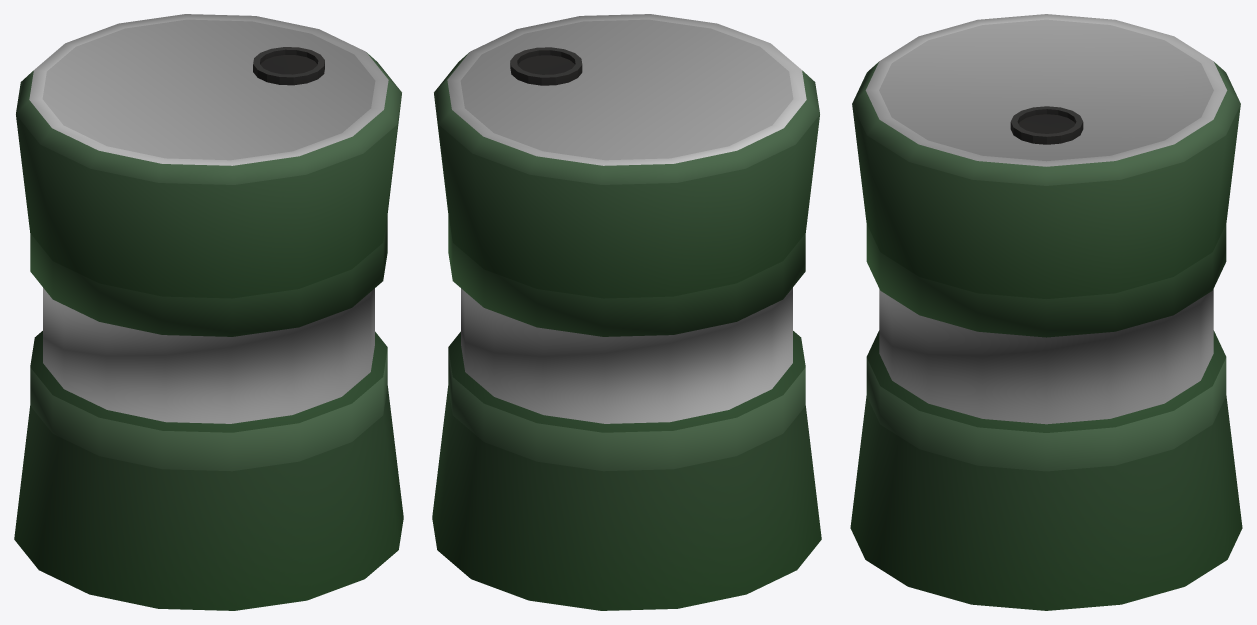
Rendered from green barrel.fbx.
3 renders of one model, left to right at view 1: azimuth 30°, elevation 25°; view 2: azimuth 150°, elevation 25°; view 3: azimuth 270°, elevation 25°, orthographic.
Parts seen in each view (by area): view 1: Cylinder.018; view 2: Cylinder.018; view 3: Cylinder.018.
Part boxes in pixels (bbox=[...]): Cylinder.018: bbox=[14, 14, 403, 610]; Cylinder.018: bbox=[432, 14, 821, 610]; Cylinder.018: bbox=[850, 14, 1242, 610].
Size of the model in its own units: 203 by 255 by 203.
